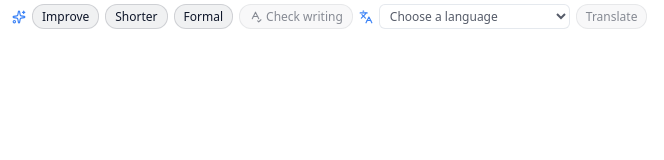
ComposeQuickActions › renders the no_provider refusal with its own copy
Click the button with test id "compose-quick-action-improve". click: (66, 16)
box: 32,4 -> 99,29
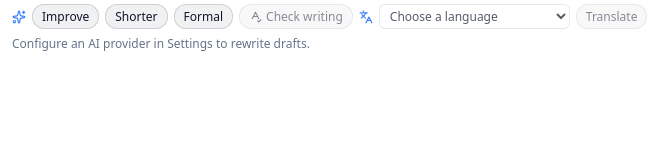
Expected: the text with test id "compose-quick-actions-refusal" reads "Configure an AI provider in Settings to rewrite drafts.", 12,35 -> 310,52
